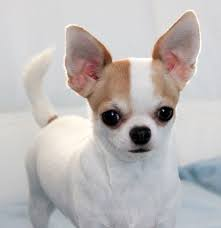chihuahua: (15, 13, 207, 216)
